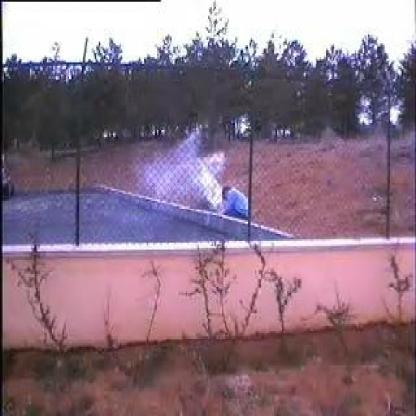-: (150, 133, 226, 203)
